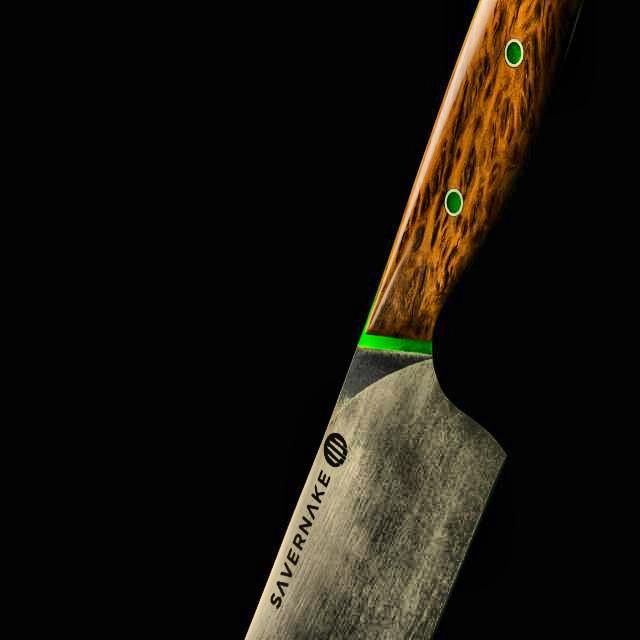knife: (228, 3, 560, 640)
